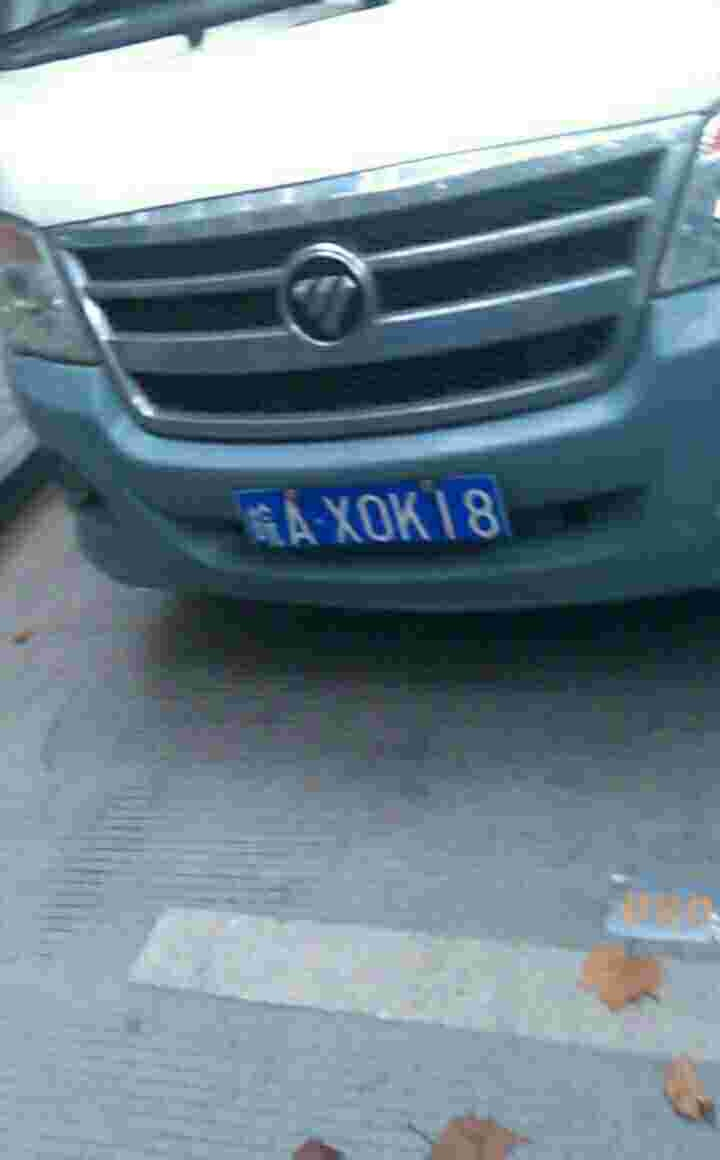car: (236, 480, 510, 554)
